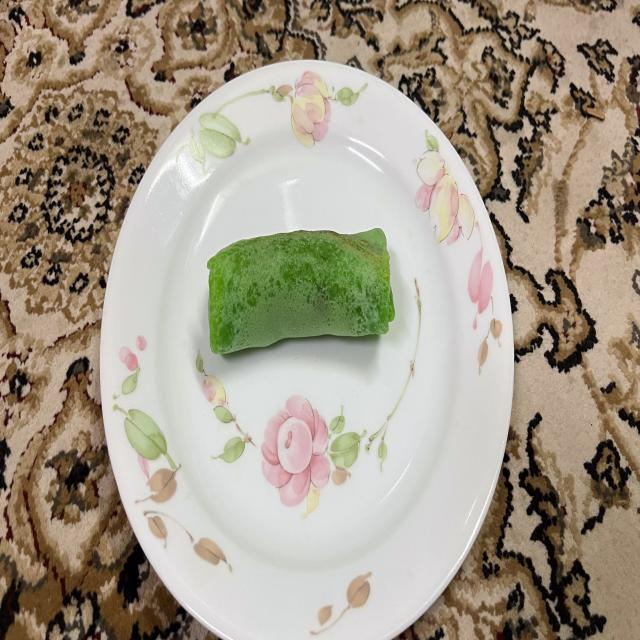Kuih-Ketayap: (208, 229, 395, 353)
